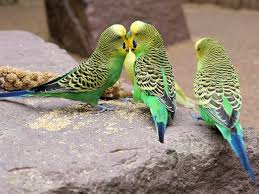budgie: (1, 22, 129, 115), (191, 36, 254, 184), (127, 18, 179, 144)
